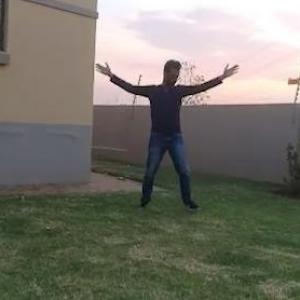takeoff: (95, 62, 234, 215)
